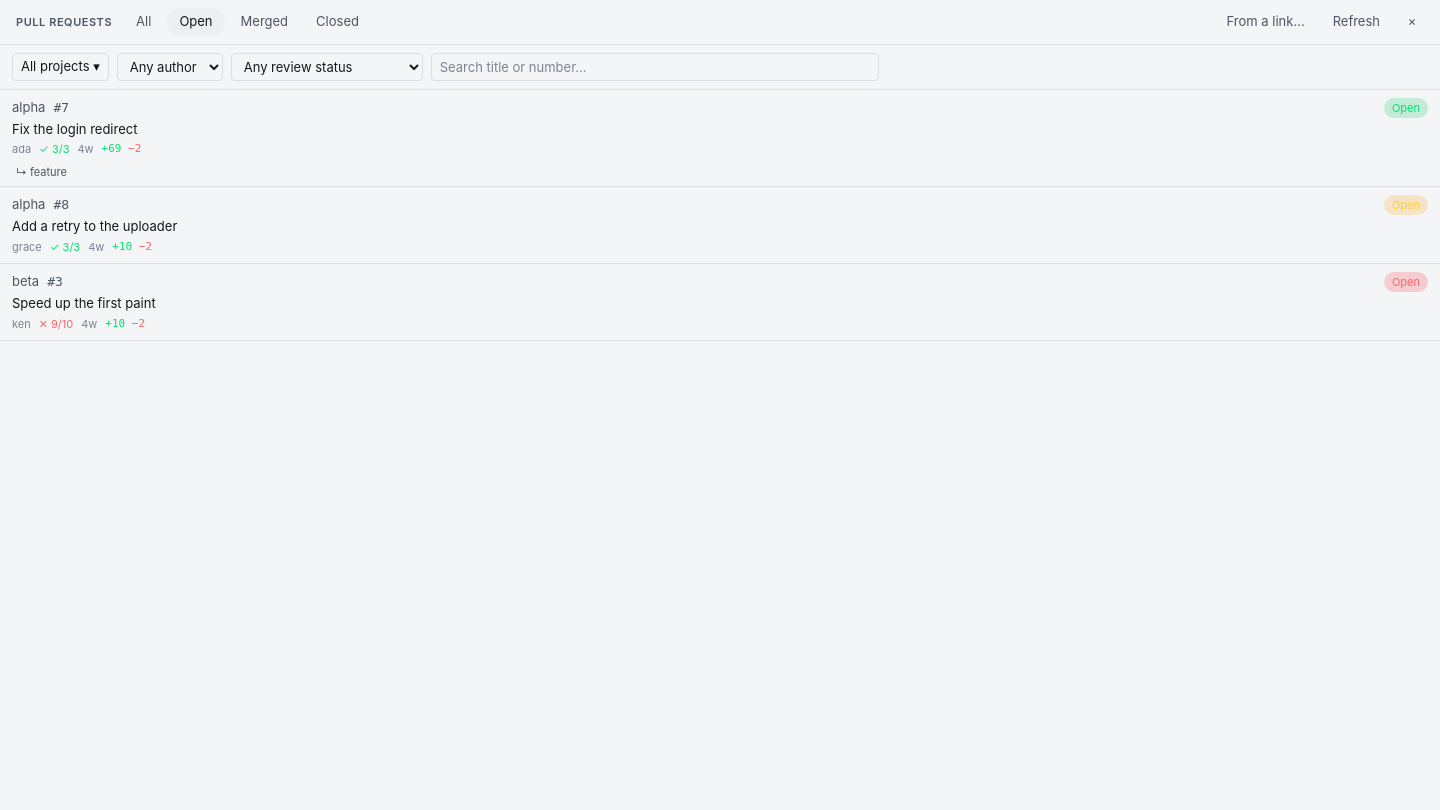
Test: the details › has two tabs, and stays on Code from one pull request to the next
This screenshot has width=1440, height=810.
What coordinates should you click on to do the following:
click the button "Add a retry"
I would click on:
 (29, 204)
Its box is top-left (0, 187), bottom-right (1439, 263).
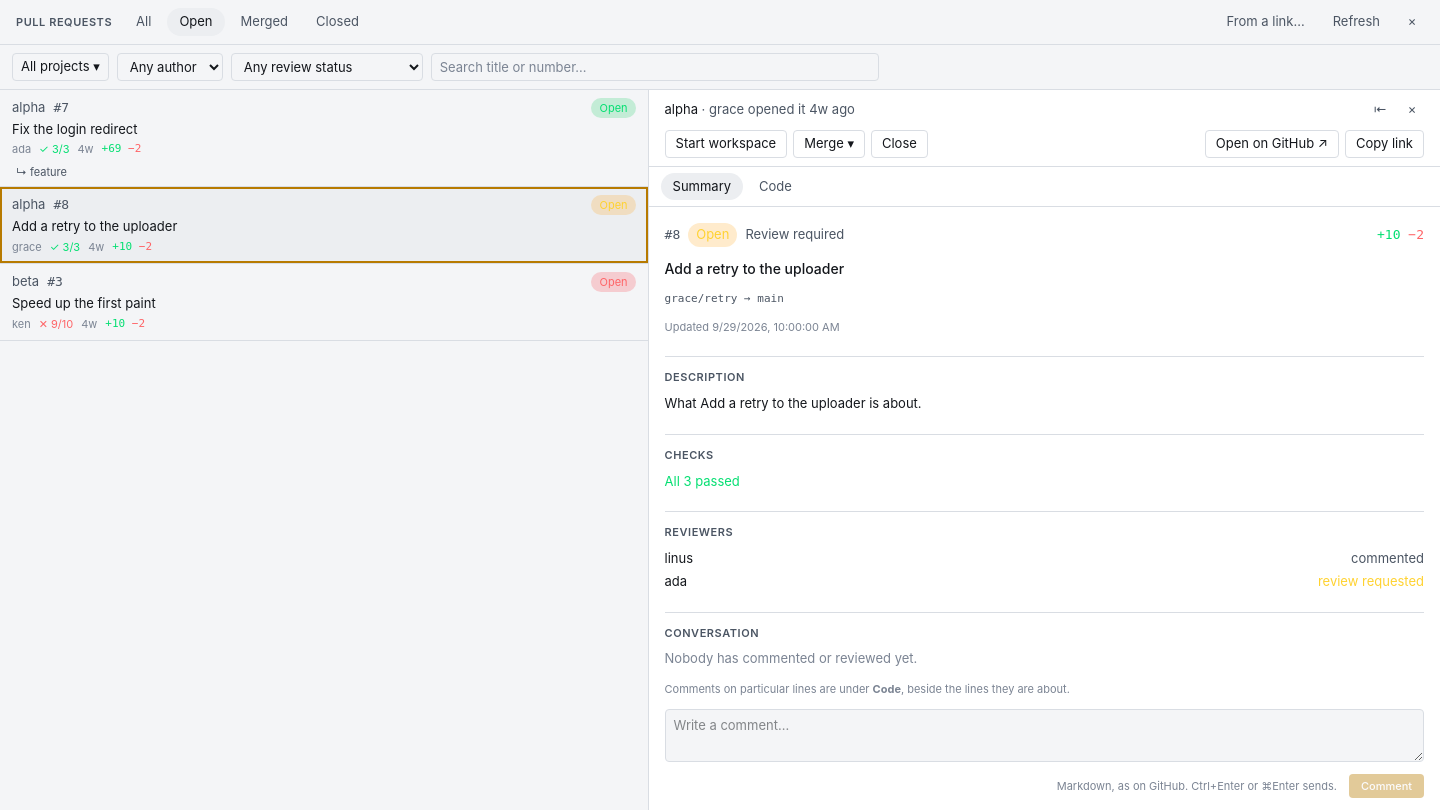
What coordinates should you click on to do the following:
click the tab "Code"
I would click on:
 (776, 186)
Its box is top-left (747, 172), bottom-right (804, 200).
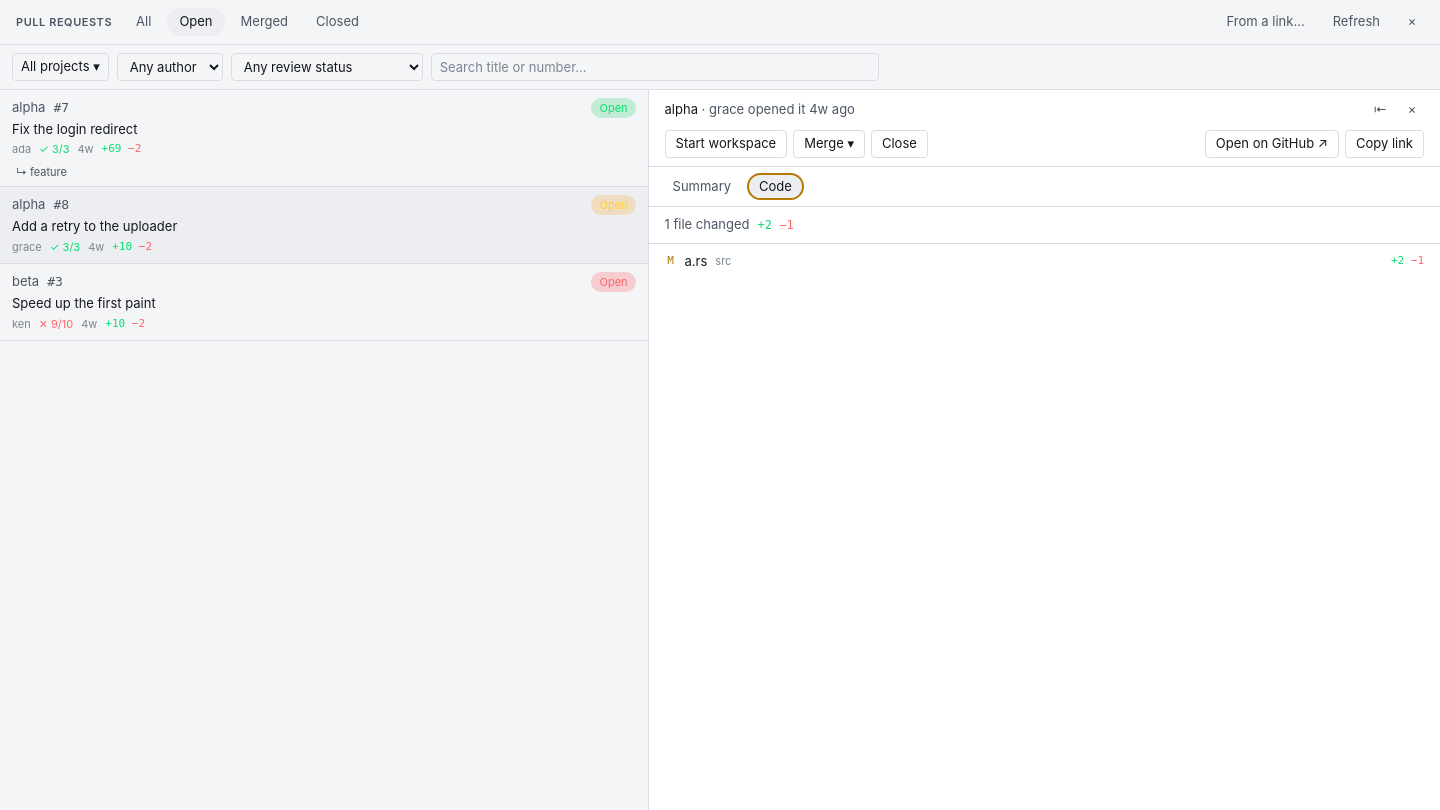
expect the button "Merge ▾" is shown: met, box top-left (793, 130), bottom-right (865, 158)
expect the list named "Changed files" is shown: met, box top-left (648, 248), bottom-right (1439, 276)
expect the heading "Description" is gone: met
What coordinates should you click on to do the following:
click the button "beta #3 Open Speed up the first paint ken ✕ 9/10 4w +10 −2"
I would click on:
 (614, 282)
Its box is top-left (0, 264), bottom-right (648, 340).
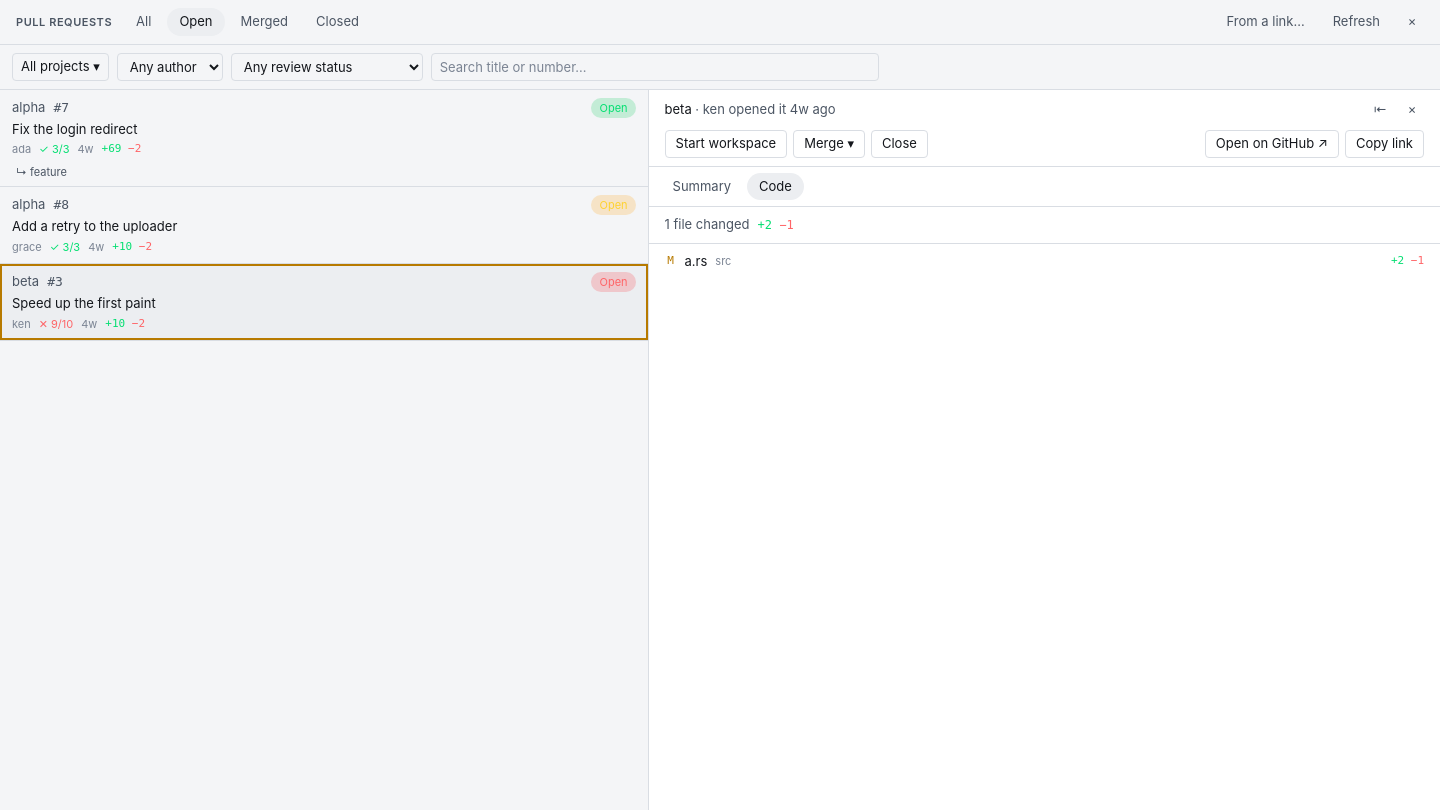
expect the tab "Code" is selected: met, box top-left (747, 172), bottom-right (804, 200)
What coordinates should you click on to do the following:
click the tab "Summary"
I would click on:
 (702, 186)
Its box is top-left (660, 172), bottom-right (743, 200).
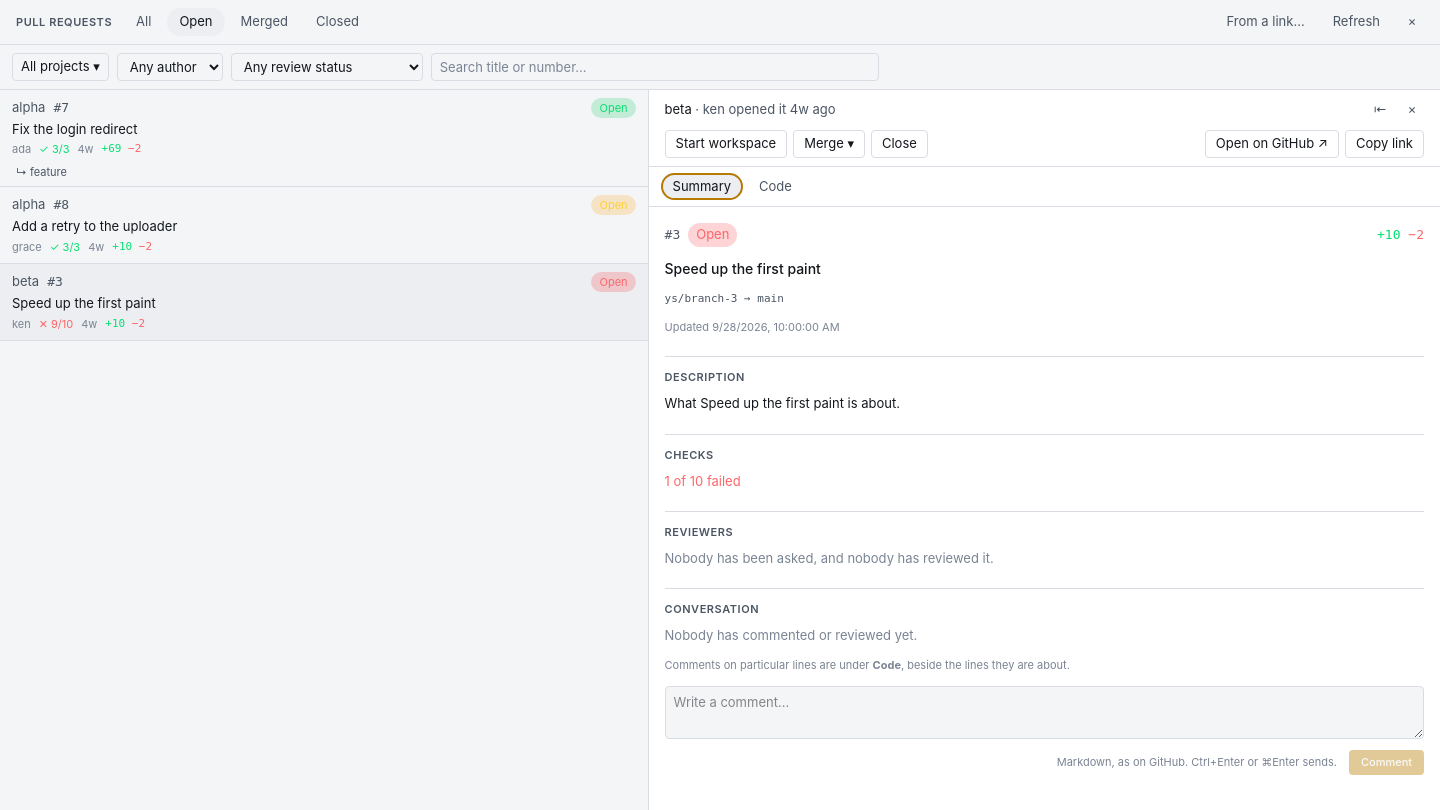
expect the element "Description" is shown: met, box top-left (664, 356), bottom-right (1424, 414)
